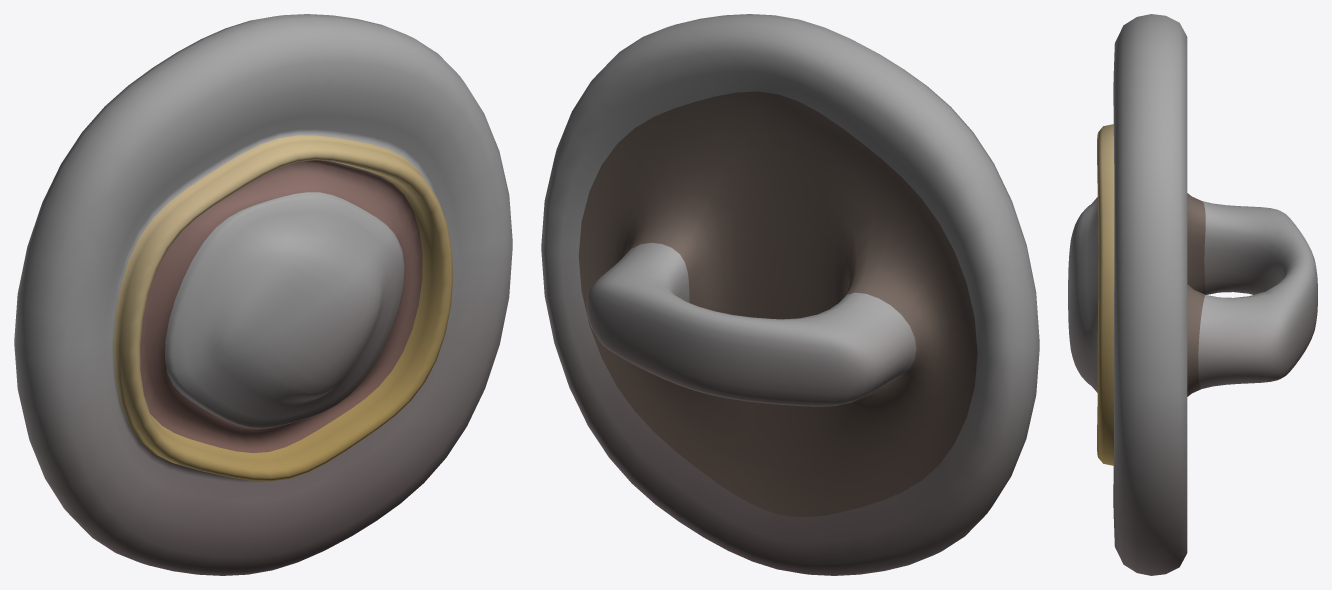
Rendered from SHILD.fbx.
3 views of the same model, side by side, from view 1: azimuth 30°, elevation 25°; view 2: azimuth 150°, elevation 25°; view 3: azimuth 270°, elevation 25° (orthographic). The views are drawn at different scales.
Parts seen in each view (by area): view 1: Cube.004; view 2: Cube.004; view 3: Cube.004.
Part boxes in pixels (left/top/right/bottom): Cube.004: left=14, top=14, right=512, bottom=575; Cube.004: left=541, top=14, right=1039, bottom=575; Cube.004: left=1068, top=14, right=1317, bottom=575.
Bounding box in the file's own units: 91.4 × 97.91 × 43.16.
Materials: 1 (1 with a texture image).
